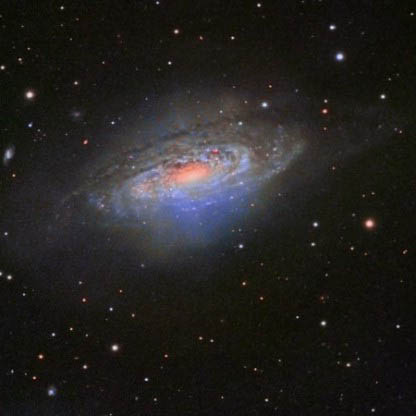NGC 3521: (23, 45, 380, 352)
